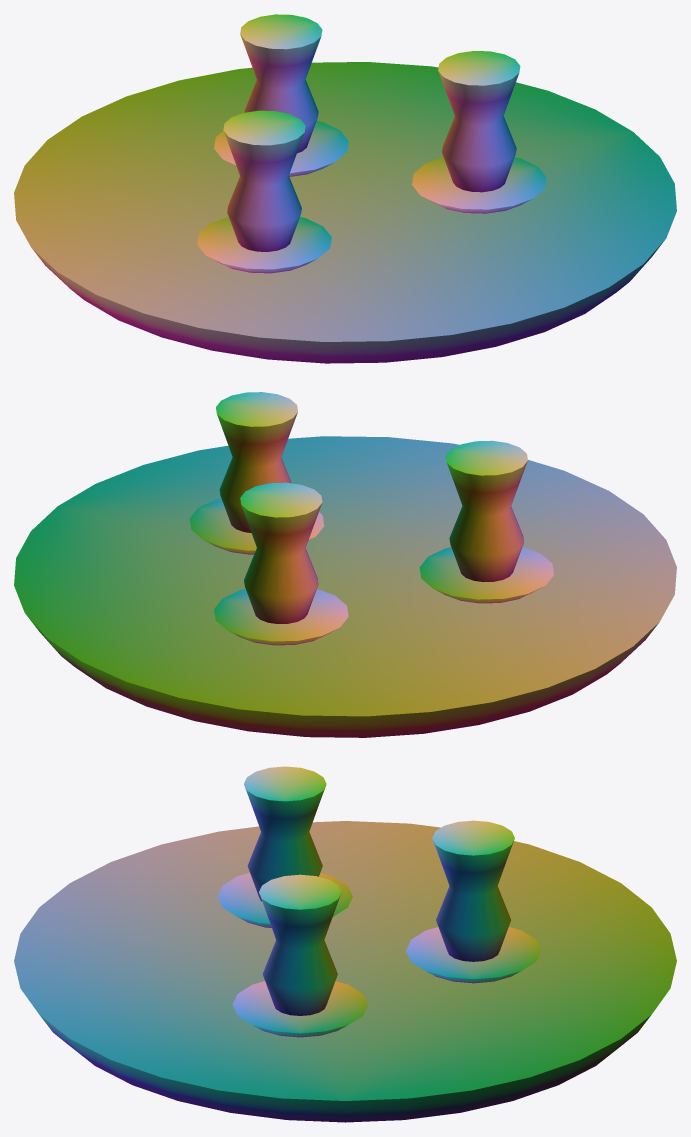
File: tea_tray.fbx
The picture shows the model from 3 angles, top to bottom: view 1: azimuth 30°, elevation 25°; view 2: azimuth 150°, elevation 25°; view 3: azimuth 270°, elevation 25°; orthographic projection.
Parts seen in each view (by area): view 1: tea_tray; view 2: tea_tray; view 3: tea_tray.
Part boxes in pixels (x1,y1,x2,y2): tea_tray: (14, 14, 676, 363); tea_tray: (14, 392, 676, 737); tea_tray: (14, 766, 676, 1122).
Bounding box in the file's own units: 0.88 × 0.23 × 0.88.
